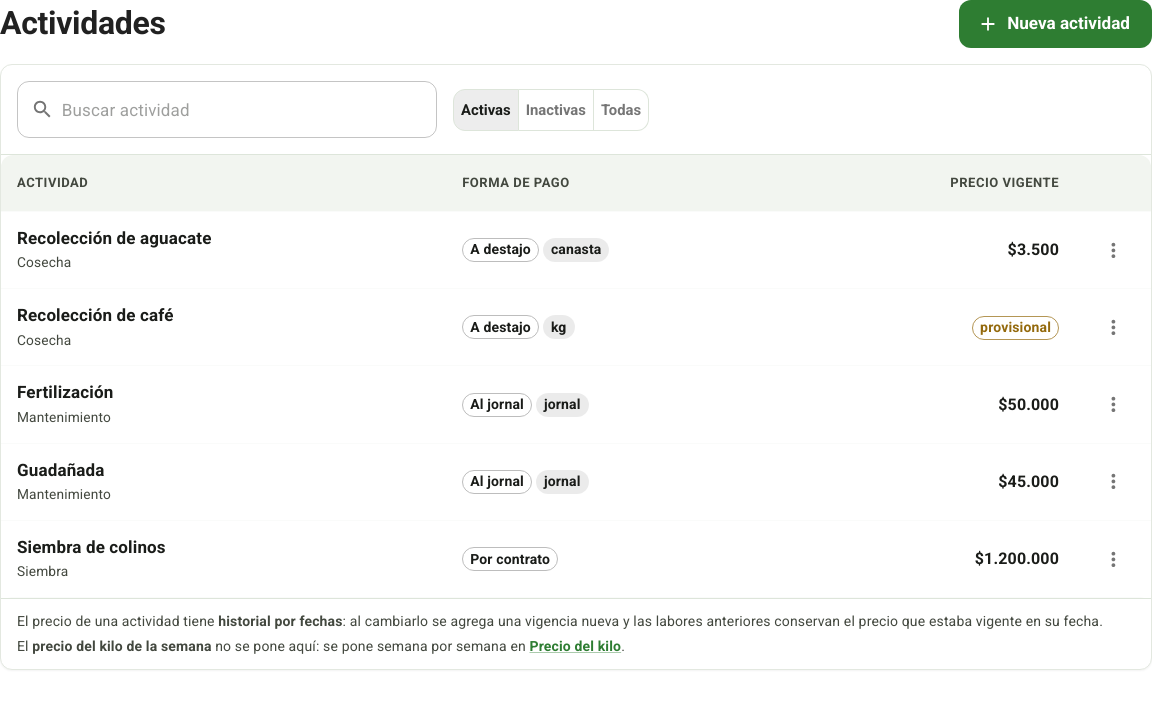
Test case: editing an activity that already exists › will not let the switch that decides how the work is paid be moved
Click the text "Recolección de café": {"x": 95, "y": 315} [17, 305, 174, 325]
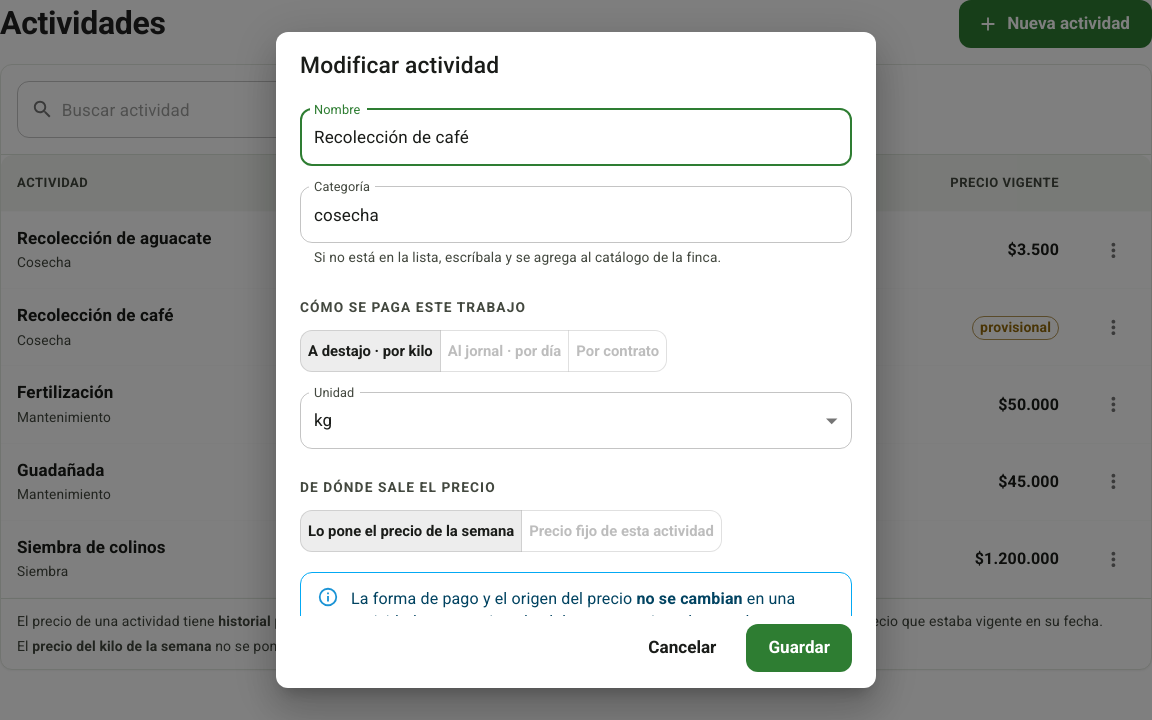
Result: the button "Lo pone el precio de la semana" is disabled at [300, 510, 522, 552]
Result: the button "Precio fijo de esta actividad" is disabled at [521, 510, 722, 552]
Result: the button "A destajo · por kilo" is disabled at [300, 330, 441, 372]
